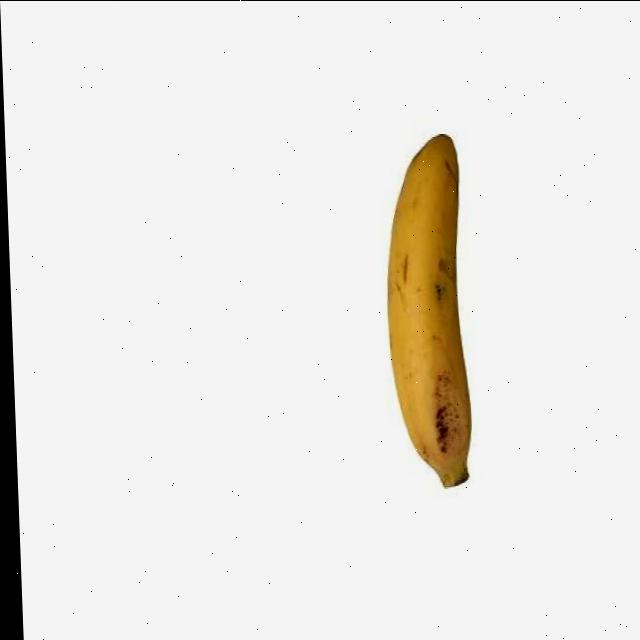banana: (372, 130, 484, 492)
